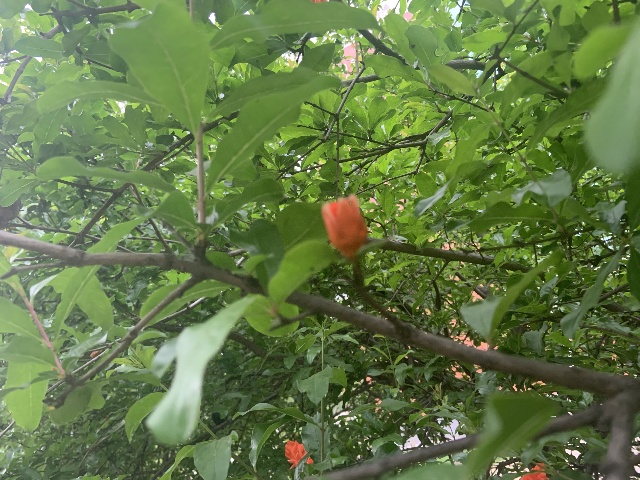bud: (89, 350, 99, 357)
flower: (321, 193, 368, 259), (283, 439, 311, 467), (516, 462, 552, 480)
